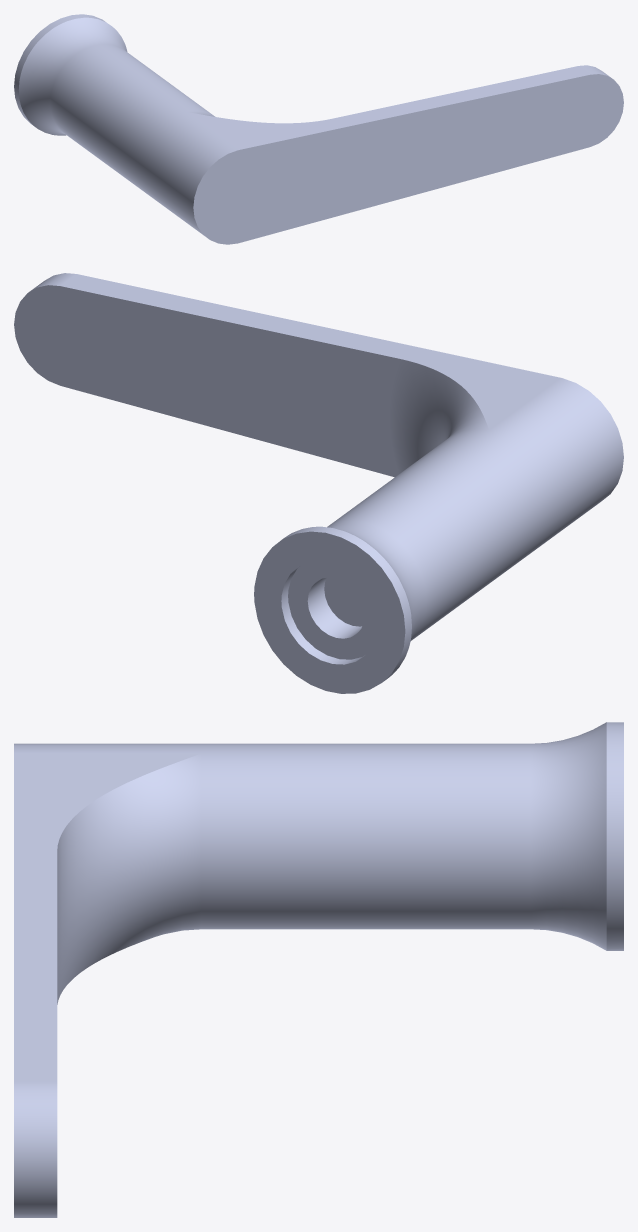
The model's file is handle.glb.
The picture shows the model from 3 angles, top to bottom: view 1: azimuth 30°, elevation 25°; view 2: azimuth 150°, elevation 25°; view 3: azimuth 270°, elevation 25°; orthographic projection. The views are drawn at different scales.
Visible parts, largest first — view 1: handle; view 2: handle; view 3: handle.
Part boxes in pixels (x1,y1,x2,y2): handle: (14,14,623,244); handle: (14,273,623,693); handle: (14,722,623,1217).
Size of the model in its own units: 0.0637 by 0.0159 by 0.0423.
